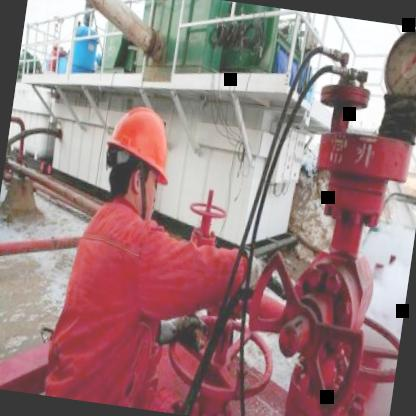helmet: (89, 92, 182, 226)
